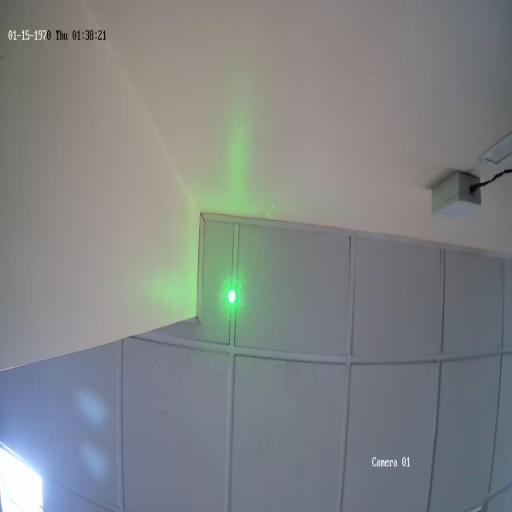laser: (218, 272, 244, 322)
